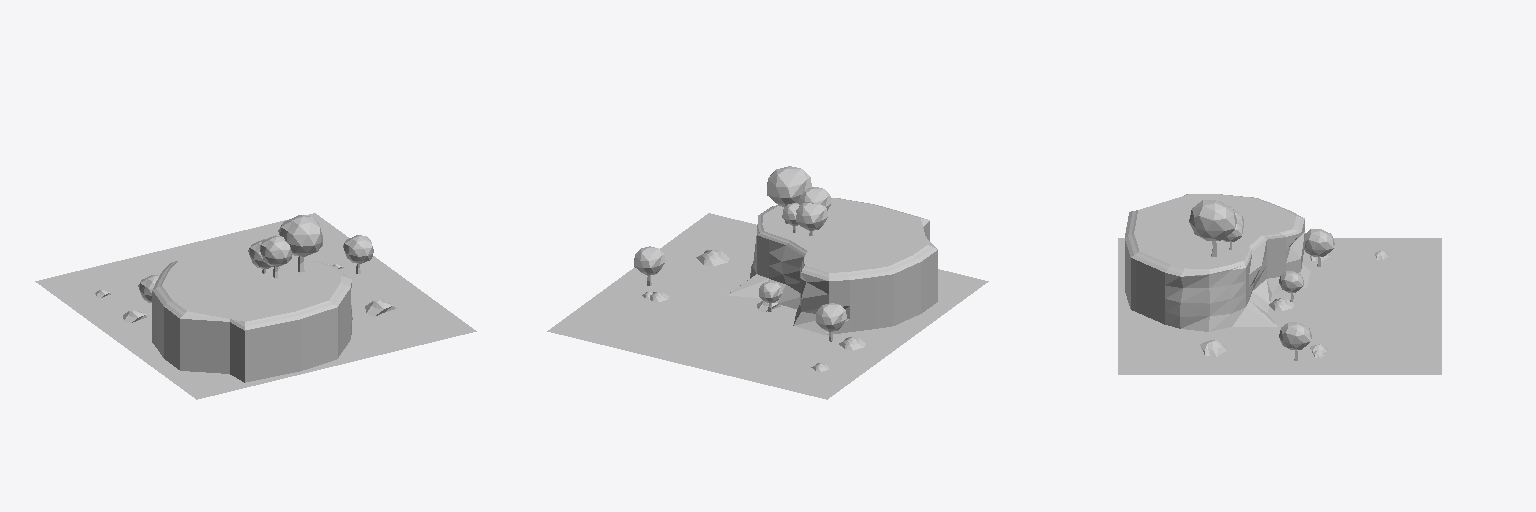
3 renders of one model, left to right at view 1: azimuth 30°, elevation 25°; view 2: azimuth 150°, elevation 25°; view 3: azimuth 270°, elevation 25°, orthographic.
Parts seen in each view (by area): view 1: map, tree_Plane.001, tree.001_Plane.002, tree.003_Plane.004; view 2: map, tree_Plane.001, tree.003_Plane.004, tree.004_Plane.005, tree.006_Plane.007; view 3: map, tree_Plane.001, tree.003_Plane.004, tree.004_Plane.005.
Part boxes in pixels (bbox=[...]): map: bbox=[35, 213, 476, 399]; tree_Plane.001: bbox=[278, 215, 322, 272]; tree.001_Plane.002: bbox=[260, 235, 291, 278]; tree.003_Plane.004: bbox=[343, 235, 373, 273]; map: bbox=[547, 198, 988, 399]; tree_Plane.001: bbox=[767, 166, 811, 223]; tree.003_Plane.004: bbox=[634, 246, 665, 285]; tree.004_Plane.005: bbox=[816, 303, 846, 341]; tree.006_Plane.007: bbox=[796, 203, 827, 235]; map: bbox=[1118, 194, 1441, 374]; tree_Plane.001: bbox=[1189, 200, 1236, 256]; tree.003_Plane.004: bbox=[1279, 322, 1311, 360]; tree.004_Plane.005: bbox=[1304, 229, 1334, 266].
Bounding box in the file's own units: 10 × 4.08 × 10.